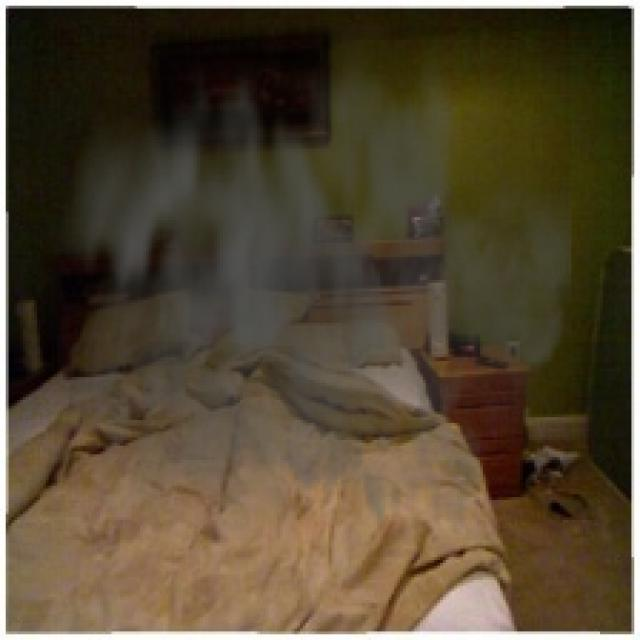smoke: (26, 26, 571, 588)
